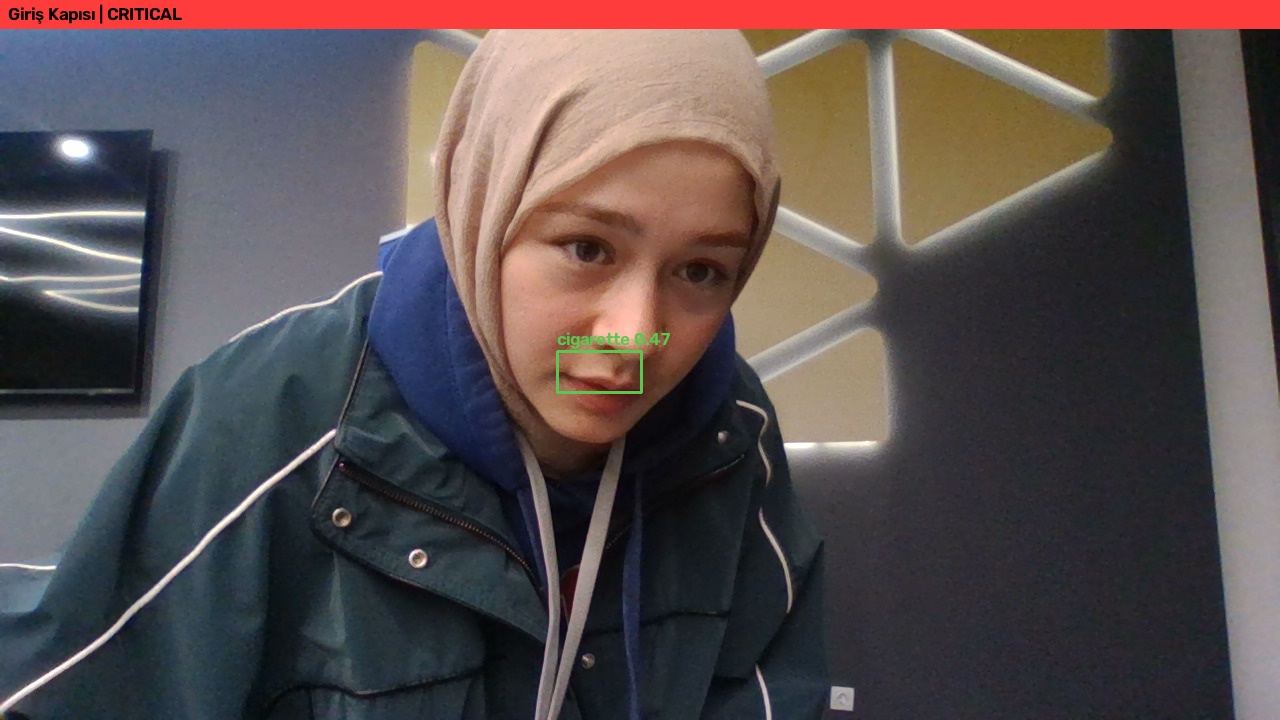weapon: (536, 510, 666, 615)
